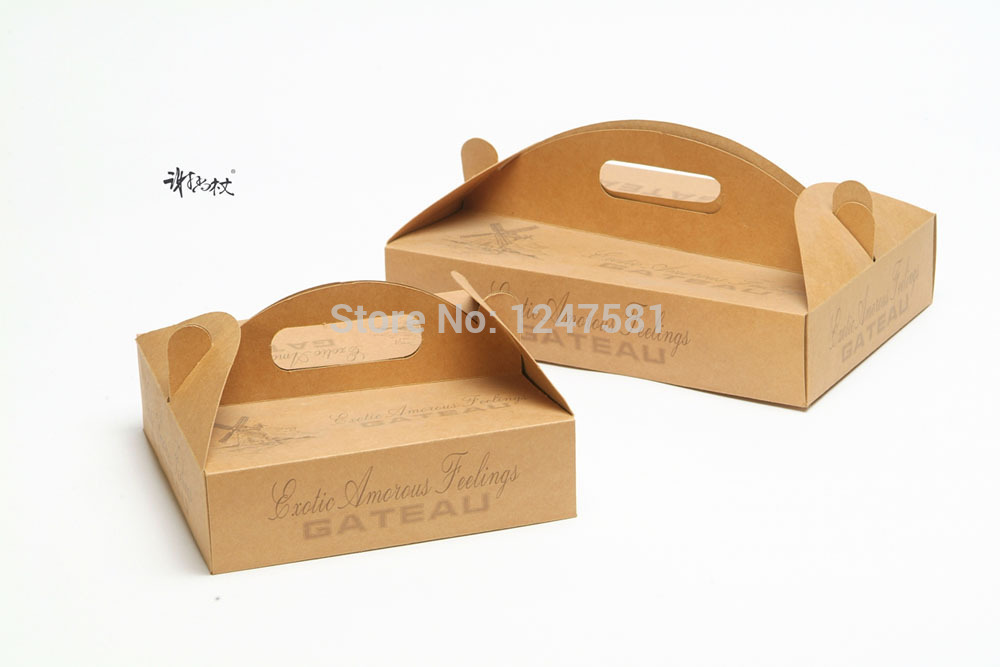Rec_Paper: (344, 81, 959, 414), (90, 247, 585, 572)
